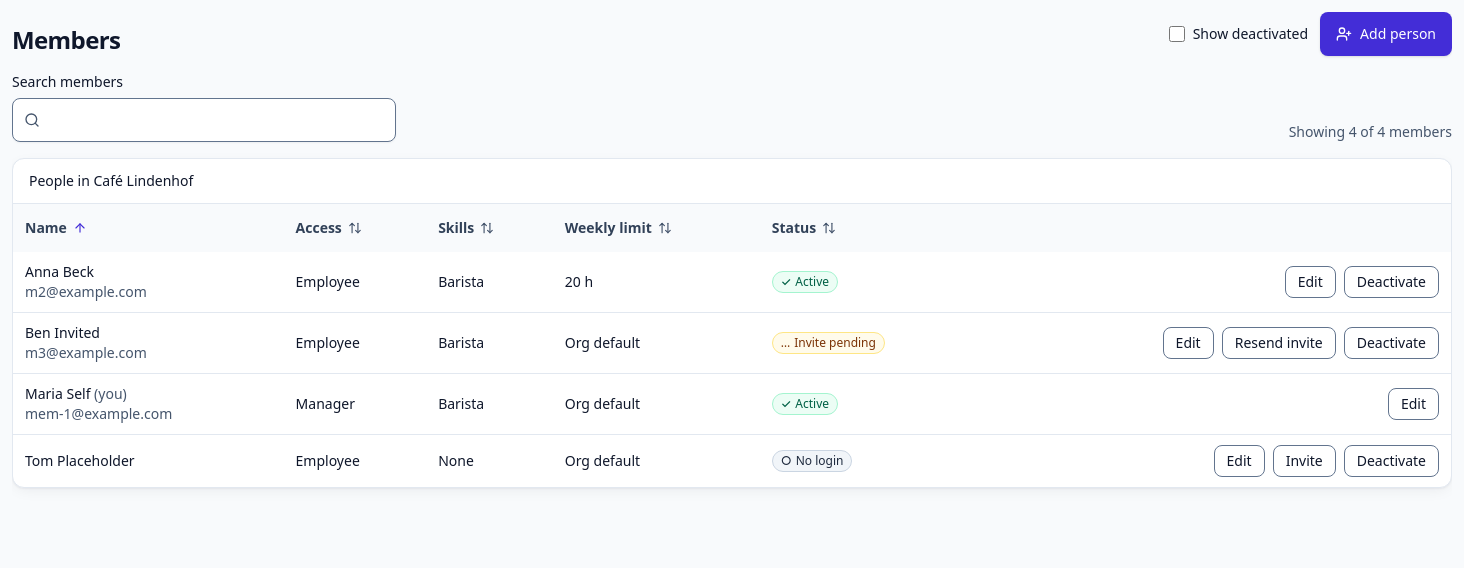
Test case: MembersPage › shows deactivated people when asked
Check: the table is shown, box [13,159,1451,487]
Click the checkbox labelled "Show deactivated" at (1177, 34), box [1169,26,1185,42]
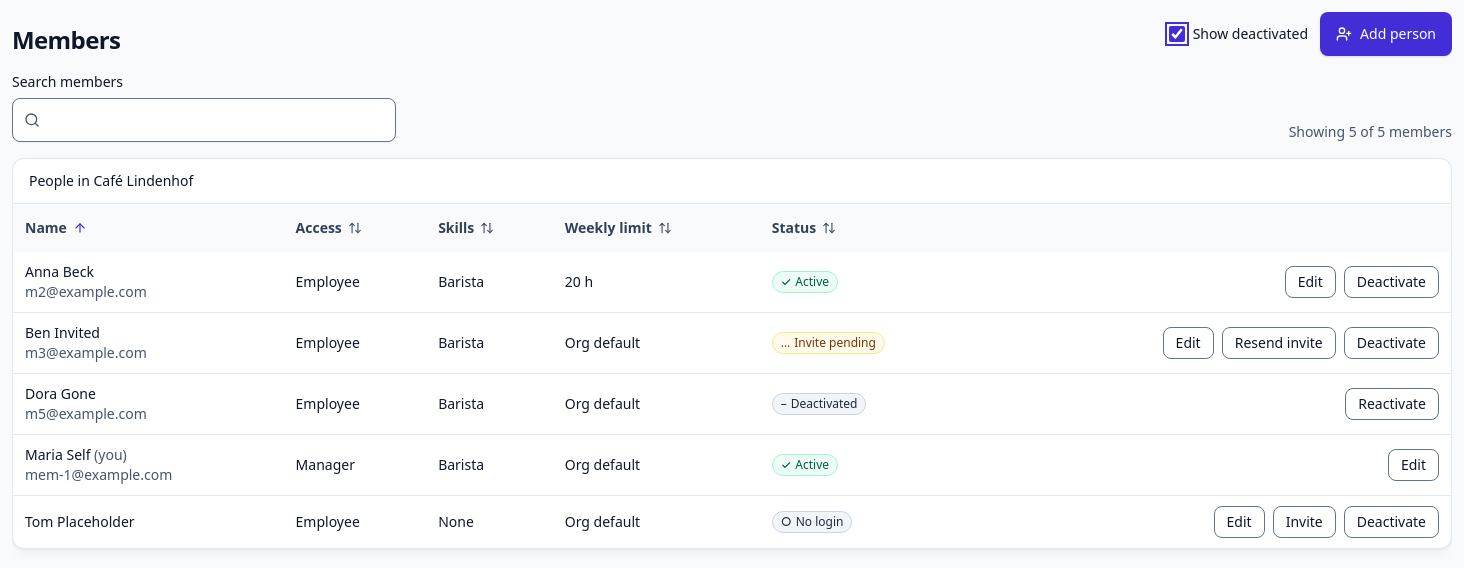
Check: the text "Deactivated" is shown, box [791,395,858,412]
Check: the button "Reactivate" is shown, box [1345,388,1439,420]
